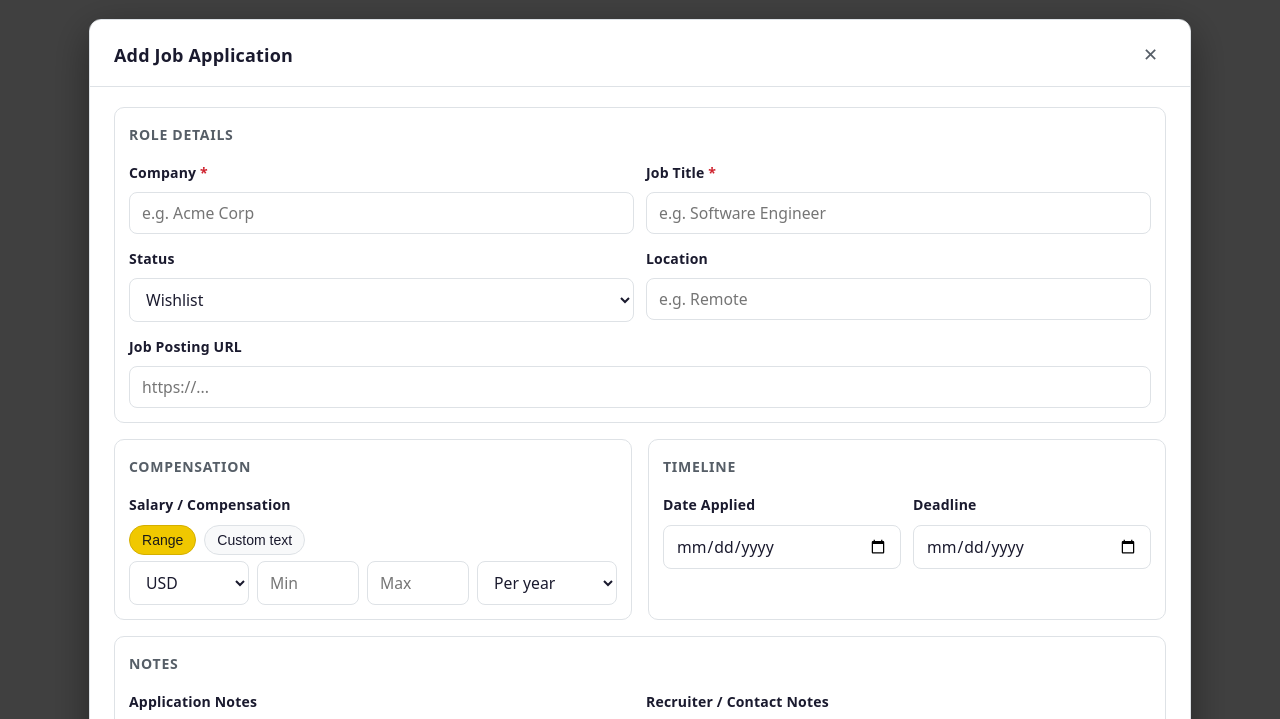
Test: JobForm › switches salary mode between structured and custom
Expected: the number field with placeholder "Min" is shown, top-left (257, 561), bottom-right (359, 605)
Click the button "Custom text" at (255, 540), box top-left (204, 525), bottom-right (305, 555)
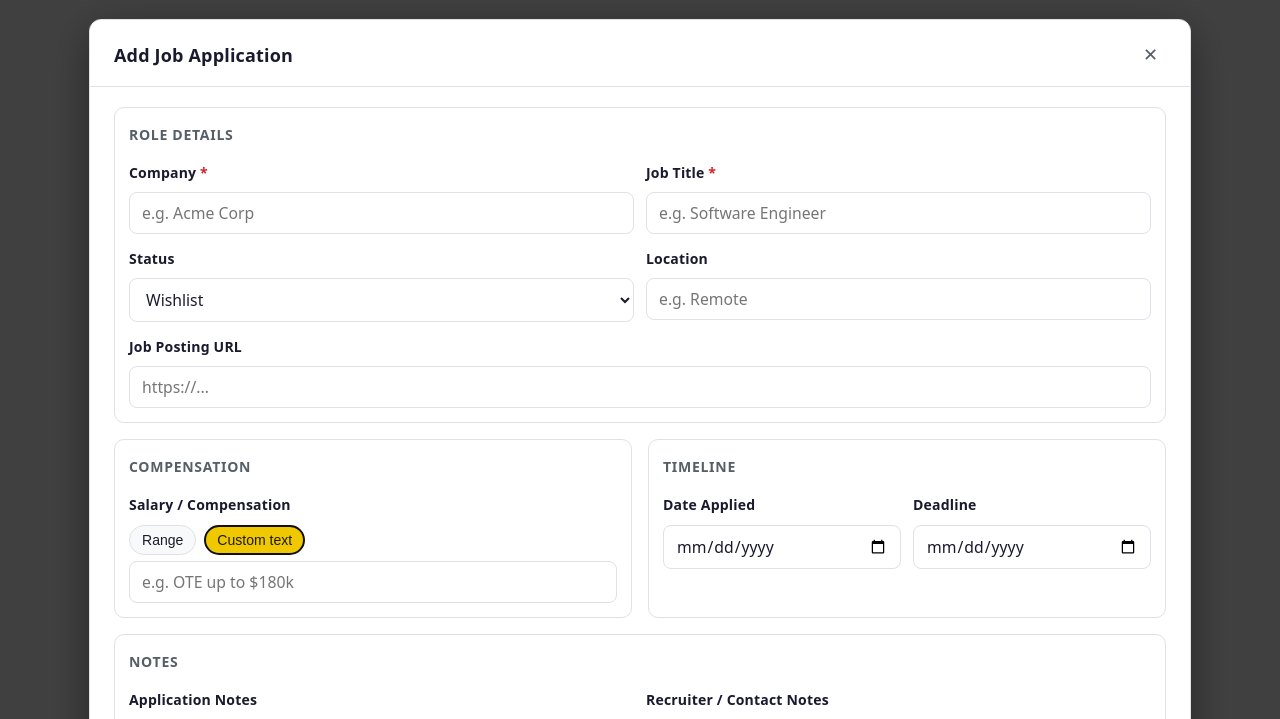
Expected: the field with placeholder "e.g. OTE up to $180k" is shown, top-left (129, 561), bottom-right (617, 603)
